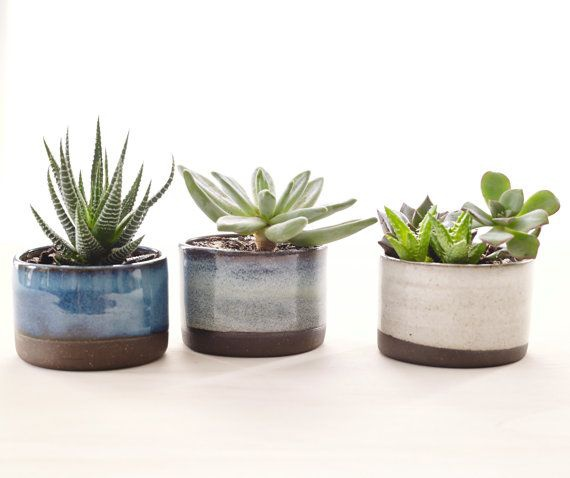flowerpot: (379, 250, 534, 368), (15, 249, 171, 364), (181, 238, 331, 355)
